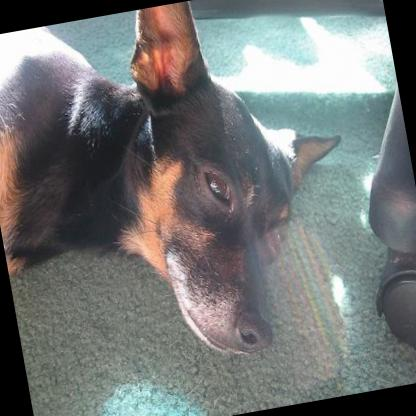miniature_pinscher: (0, 0, 375, 392)
